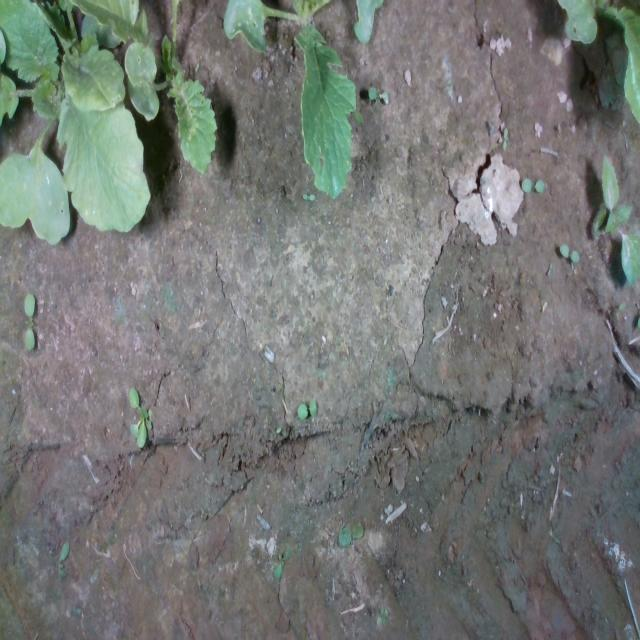weed: (22, 291, 35, 353), (56, 540, 70, 580), (296, 396, 318, 420), (519, 176, 547, 193), (502, 124, 508, 153)
